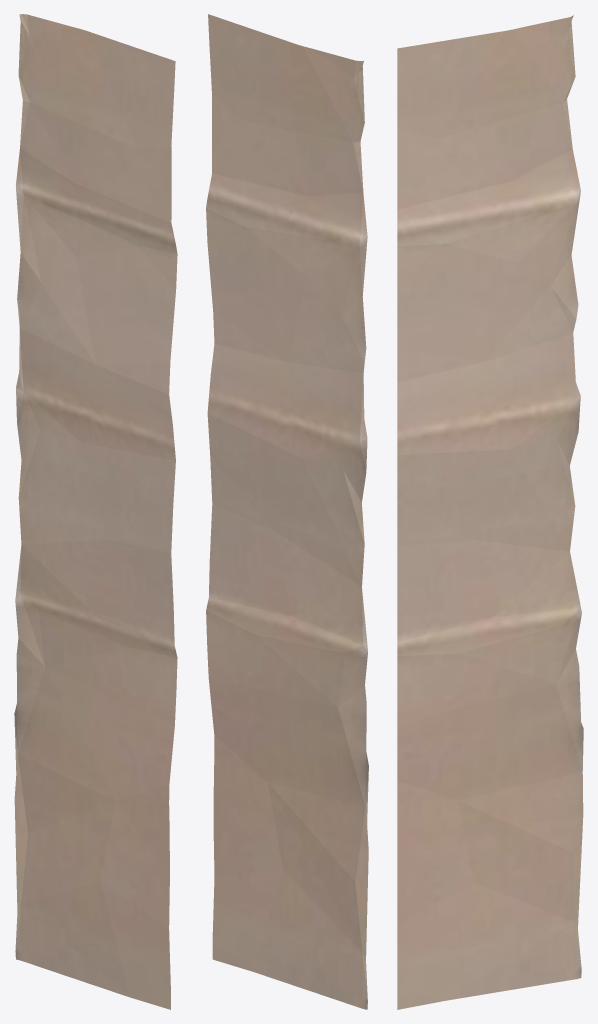
The model's file is Tile_+011_+008_L20_000001400.glb.
The picture shows the model from 3 angles, left to right: view 1: azimuth 30°, elevation 25°; view 2: azimuth 210°, elevation 25°; view 3: azimuth 270°, elevation 25°; orthographic projection.
Parts seen in each view (by area): view 1: rtc; view 2: rtc; view 3: rtc.
Boxes of the visible parts, <box> form: rtc: <box>14,14,177,1009</box>; rtc: <box>206,14,368,1009</box>; rtc: <box>397,15,583,1009</box>.
Bounding box in the file's own units: 2.3 × 29.14 × 5.11.
1 material, 1 textured.
